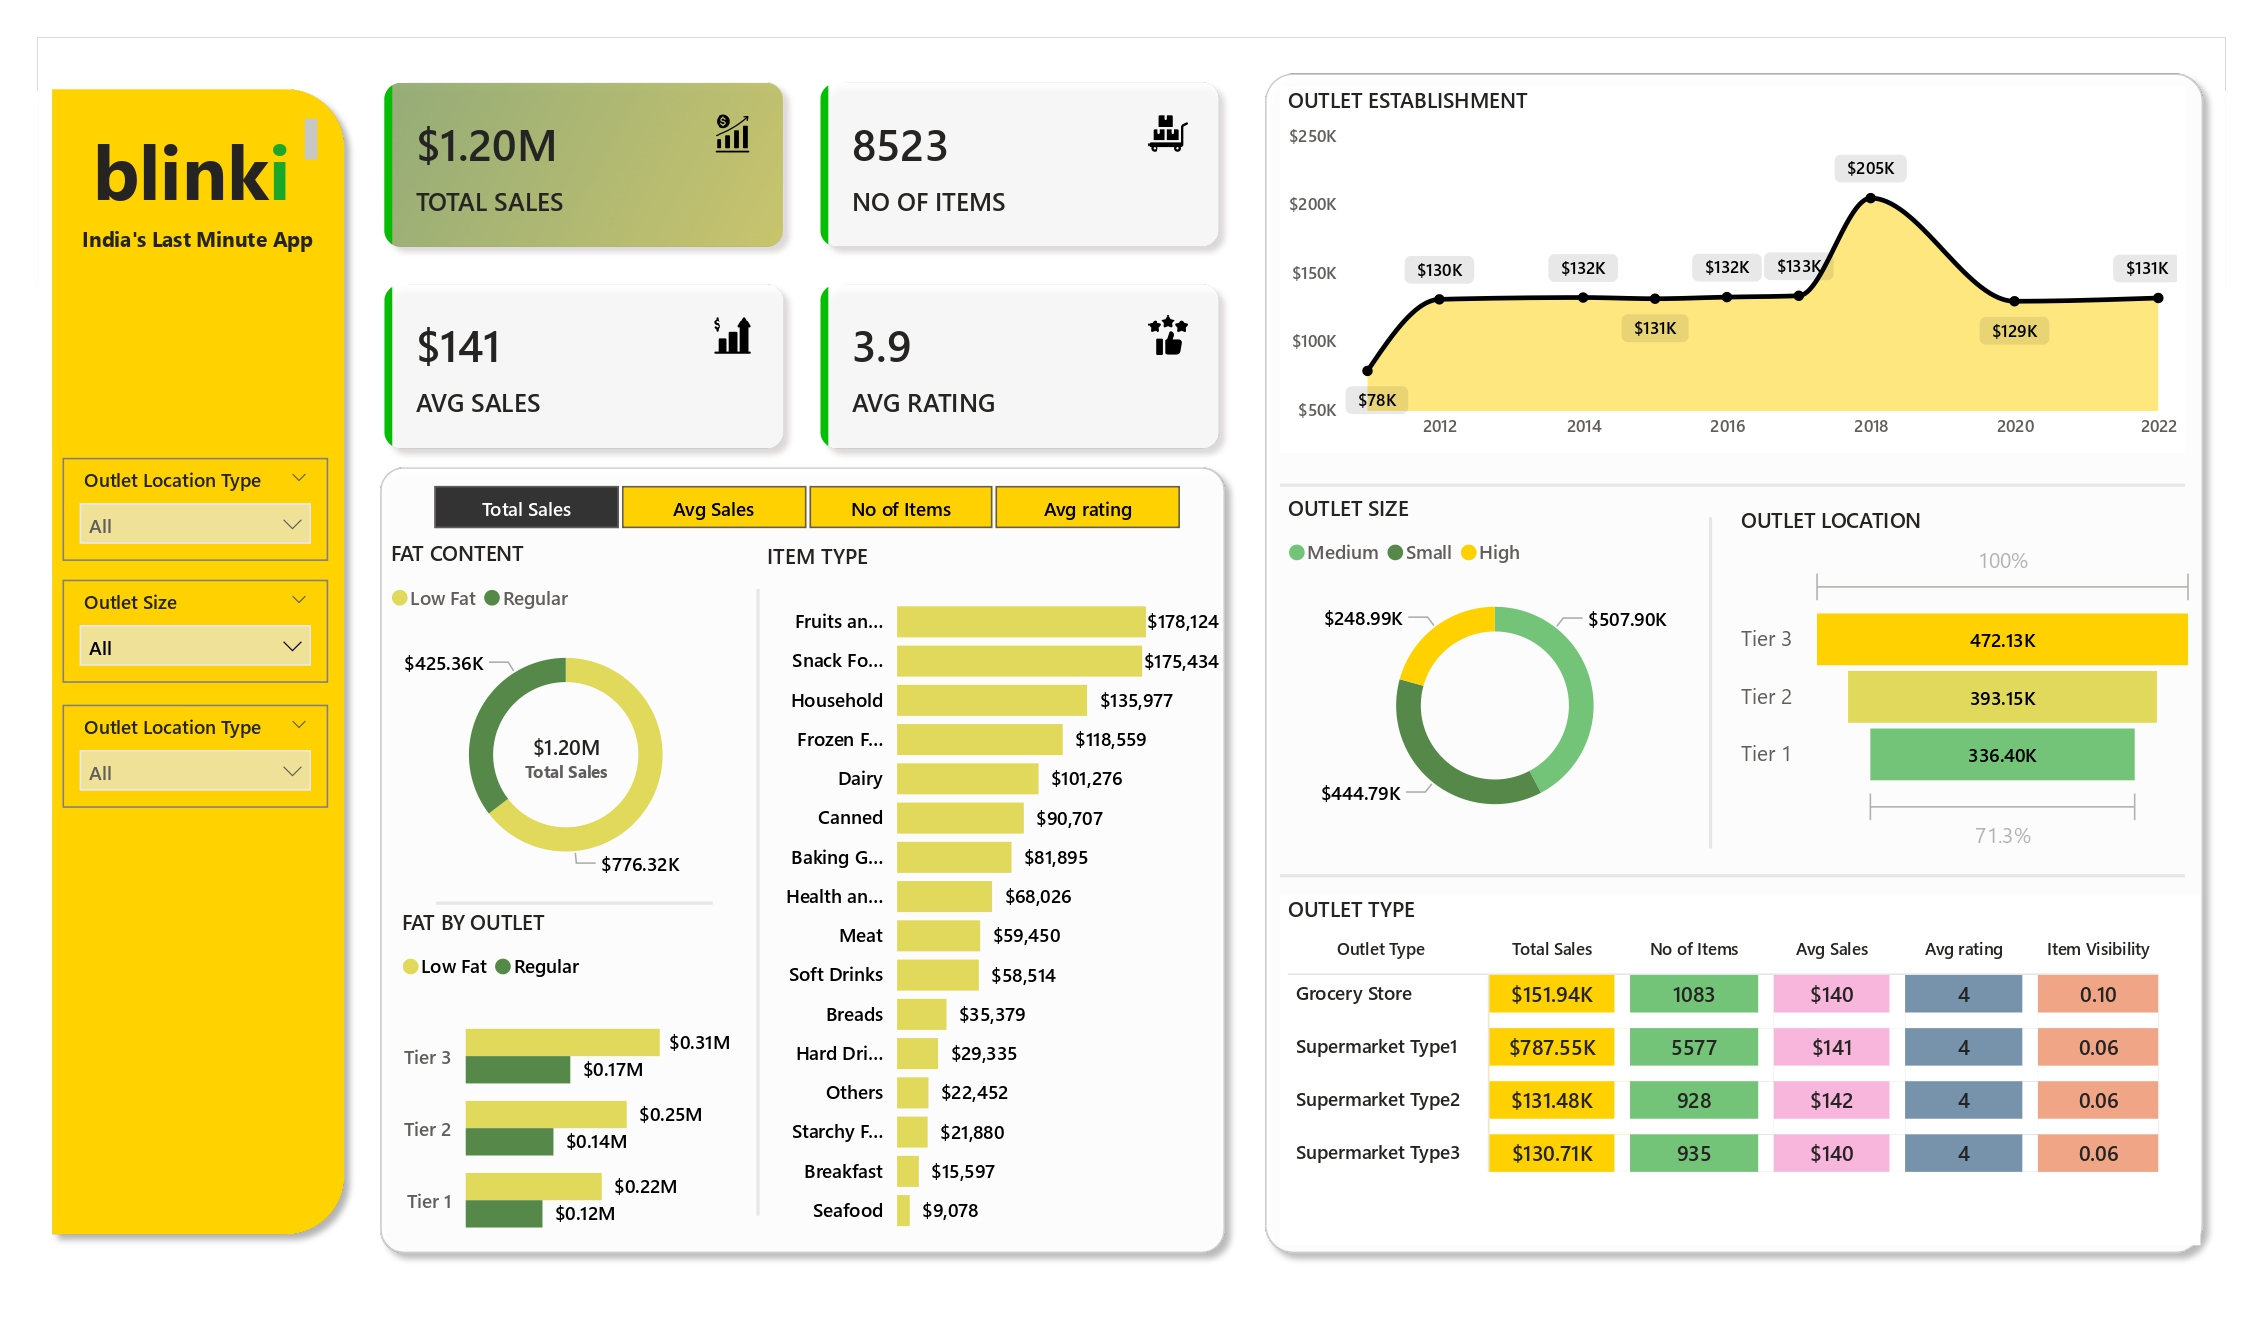

What the dashboard file says about the page in this screenshot:
{"tool":"powerbi","page":{"name":"Page 1","canvas":[1400,800],"ordinal":0},"visuals":[{"type":"shape","box":[0,24.3,204.9,750.2],"z":0},{"type":"textbox","box":[20.8,46.9,163.2,67.7],"z":1000},{"type":"textbox","box":[20.8,114.6,163.2,33],"z":2000},{"type":"cardVisual","fields":{"Data":["BlinkIT Grocery Data.Total Sales","BlinkIT Grocery Data.No of Items","BlinkIT Grocery Data.Avg Sales","BlinkIT Grocery Data.Avg rating"]},"box":[204.9,12.2,569.6,269.2],"z":3000},{"type":"shape","box":[210.1,265.7,559.2,521],"z":4000},{"type":"donutChart","title":"FAT CONTENT","fields":{"Y":["BlinkIT Grocery Data.Total Sales"],"Category":["BlinkIT Grocery Data.Item Fat Content"]},"box":[220.6,321.3,234.4,229.2],"z":5000},{"type":"cardVisual","fields":{"Data":["BlinkIT Grocery Data.Total Sales"]},"box":[291.8,418.5,93.8,83.4],"z":6000},{"type":"clusteredBarChart","title":"FAT BY OUTLET","fields":{"Y":["BlinkIT Grocery Data.Total Sales"],"Category":["BlinkIT Grocery Data.Outlet Location Type"],"Series":["BlinkIT Grocery Data.Item Fat Content"]},"box":[227.5,557.5,220.6,229.2],"z":7000},{"type":"shape","box":[255.3,533.2,177.1,41.7],"z":8000},{"type":"shape","box":[455,352.5,12.2,401.2],"z":9000},{"type":"clusteredBarChart","title":"ITEM TYPE","fields":{"Y":["BlinkIT Grocery Data.Total Sales"],"Category":["BlinkIT Grocery Data.Item Type"]},"box":[461.9,323,298.7,453.3],"z":10000},{"type":"shape","box":[776.3,13.9,618.2,772.8],"z":11000},{"type":"lineChart","title":"OUTLET ESTABLISHMENT","fields":{"Category":["BlinkIT Grocery Data.Outlet Establishment Year"],"Y":["BlinkIT Grocery Data.Total Sales"]},"box":[795.4,31.3,578.3,234.4],"z":12000},{"type":"shape","box":[795.4,265.7,578.3,41.7],"z":13000},{"type":"donutChart","title":"OUTLET SIZE","fields":{"Y":["BlinkIT Grocery Data.Total Sales"],"Category":["BlinkIT Grocery Data.Outlet Size"]},"box":[795.4,291.8,275,225],"z":14000},{"type":"shape","box":[956.9,307.4,227.5,211.9],"z":15000},{"type":"funnel","title":"OUTLET LOCATION","fields":{"Y":["Sum(BlinkIT Grocery Data.Sales)"],"Category":["BlinkIT Grocery Data.Outlet Location Type"]},"box":[1085.4,300.4,300.4,225.8],"z":16000},{"type":"shape","box":[795.4,515.8,578.3,41.7],"z":17000},{"type":"pivotTable","title":"OUTLET TYPE","fields":{"Rows":["BlinkIT Grocery Data.Outlet Type"],"Values":["BlinkIT Grocery Data.Total Sales","BlinkIT Grocery Data.No of Items","BlinkIT Grocery Data.Avg Sales","BlinkIT Grocery Data.Avg rating","Avg(BlinkIT Grocery Data.Item Visibility)"]},"box":[795.4,548.8,588.7,224],"z":18000},{"type":"slicer","fields":{"Values":["BlinkIT Grocery Data.Outlet Location Type"]},"box":[15.6,269.2,170.2,66],"z":19000},{"type":"slicer","fields":{"Values":["BlinkIT Grocery Data.Outlet Size"]},"box":[15.6,347.3,170.2,66],"z":20000},{"type":"slicer","fields":{"Values":["BlinkIT Grocery Data.Outlet Location Type"]},"box":[15.6,427.2,170.2,66],"z":21000},{"type":"slicer","fields":{"Values":["Metrics.Metrics"]},"box":[227.5,279.6,527.9,41.7],"z":22000}]}

Visuals, with their boxes in screenshot pixels (x1, y1, x2, y2):
shape: rect(38, 75, 358, 1248)
textbox: rect(70, 111, 325, 217)
textbox: rect(70, 217, 325, 268)
cardVisual - BlinkIT Grocery Data.Total Sales x BlinkIT Grocery Data.No of Items: rect(358, 57, 1248, 477)
shape: rect(366, 453, 1240, 1267)
"FAT CONTENT" donutChart: rect(382, 540, 749, 898)
cardVisual - BlinkIT Grocery Data.Total Sales: rect(494, 691, 640, 822)
"FAT BY OUTLET" clusteredBarChart: rect(393, 909, 738, 1267)
shape: rect(437, 871, 713, 936)
shape: rect(749, 588, 768, 1215)
"ITEM TYPE" clusteredBarChart: rect(759, 542, 1226, 1250)
shape: rect(1251, 59, 2217, 1267)
"OUTLET ESTABLISHMENT" lineChart: rect(1281, 86, 2184, 453)
shape: rect(1281, 453, 2184, 518)
"OUTLET SIZE" donutChart: rect(1281, 493, 1710, 845)
shape: rect(1533, 518, 1889, 849)
"OUTLET LOCATION" funnel: rect(1734, 507, 2203, 860)
shape: rect(1281, 843, 2184, 909)
"OUTLET TYPE" pivotTable: rect(1281, 895, 2201, 1245)
slicer - BlinkIT Grocery Data.Outlet Location Type: rect(62, 458, 328, 561)
slicer - BlinkIT Grocery Data.Outlet Size: rect(62, 580, 328, 683)
slicer - BlinkIT Grocery Data.Outlet Location Type: rect(62, 705, 328, 808)
slicer - Metrics.Metrics: rect(393, 474, 1218, 540)
